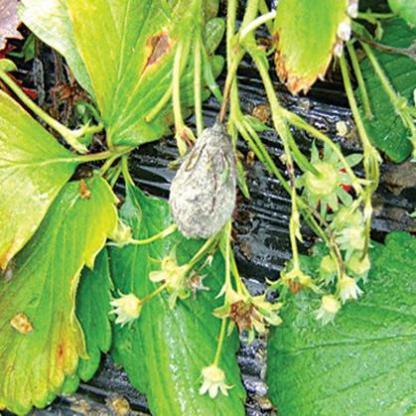Strawberry_Gray_Mold: (170, 123, 238, 240)
